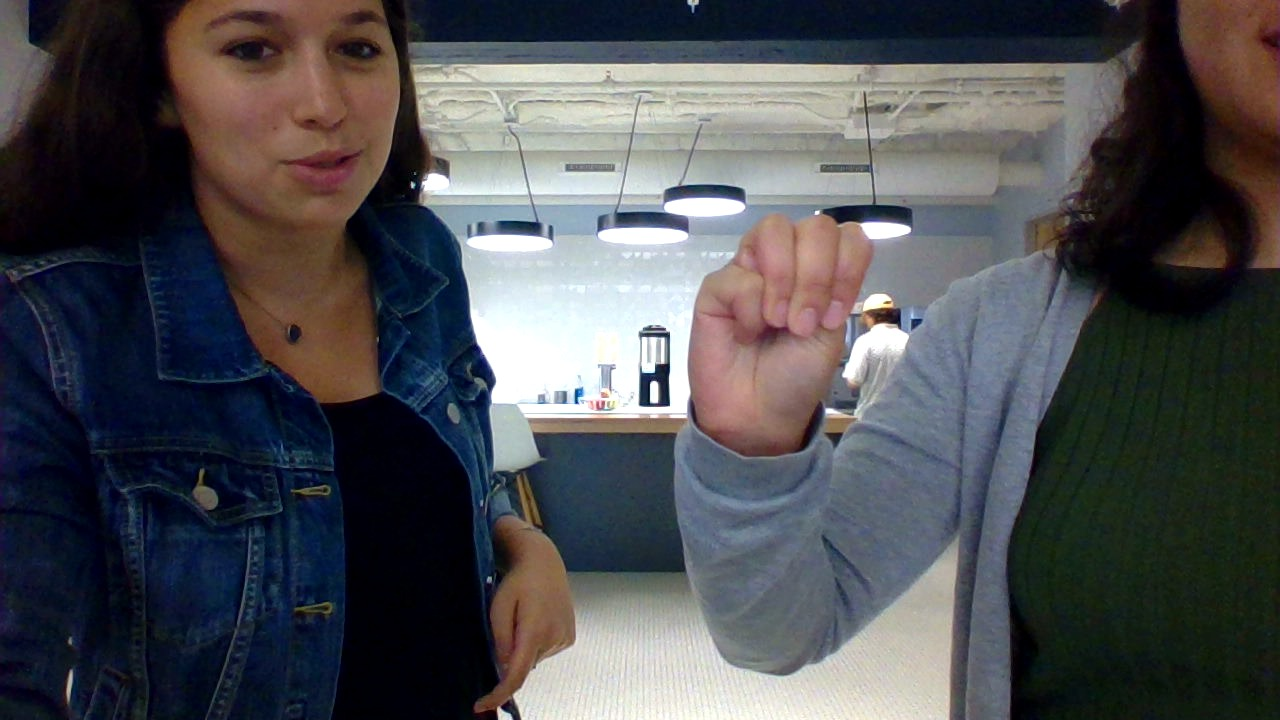m: (675, 191, 883, 490)
